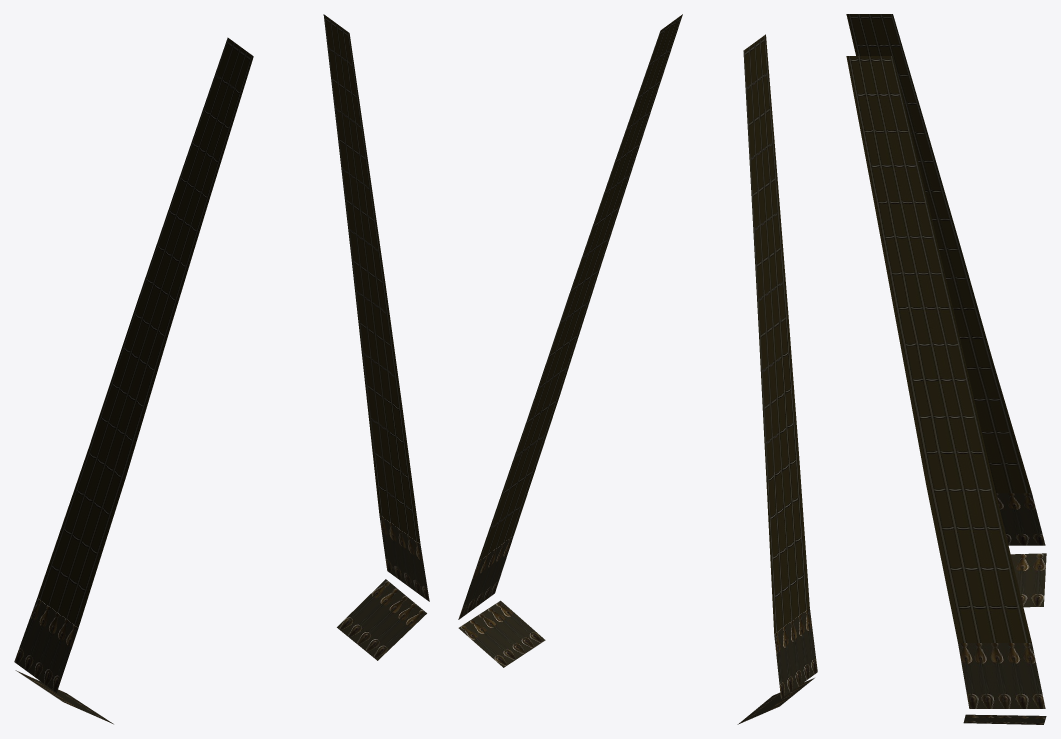
Rendered from warshipL2-rigging_0.fbx.
3 renders of one model, left to right at view 1: azimuth 30°, elevation 25°; view 2: azimuth 150°, elevation 25°; view 3: azimuth 270°, elevation 25°, orthographic. The views are drawn at different scales.
Visible parts, largest first — view 1: rigging, riggingmount_pulleys3, pullys_1b3, pullys_1b2; view 2: rigging, riggingmount_pulleys3, pullys_1b3, pullys_1b2; view 3: rigging, pullys_1b2, pullys_1b3, riggingmount_pulleys4, riggingmount_pulleys3.
Part boxes in pixels (left/top/right/bottom): rigging: left=37, top=14, right=420, bottom=627; riggingmount_pulleys3: left=337, top=579, right=426, bottom=660; pullys_1b3: left=14, top=598, right=78, bottom=692; pullys_1b2: left=379, top=515, right=429, bottom=601; rigging: left=478, top=14, right=809, bottom=633; riggingmount_pulleys3: left=458, top=600, right=545, bottom=667; pullys_1b3: left=774, top=608, right=817, bottom=698; pullys_1b2: left=458, top=536, right=513, bottom=619; rigging: left=846, top=14, right=1031, bottom=642; pullys_1b2: left=958, top=643, right=1045, bottom=708; pullys_1b3: left=996, top=493, right=1045, bottom=545; riggingmount_pulleys4: left=1010, top=553, right=1046, bottom=607; riggingmount_pulleys3: left=963, top=714, right=1046, bottom=724.
Size of the model in its own units: 5936 by 10625 by 3078.
1 material, 1 textured.
